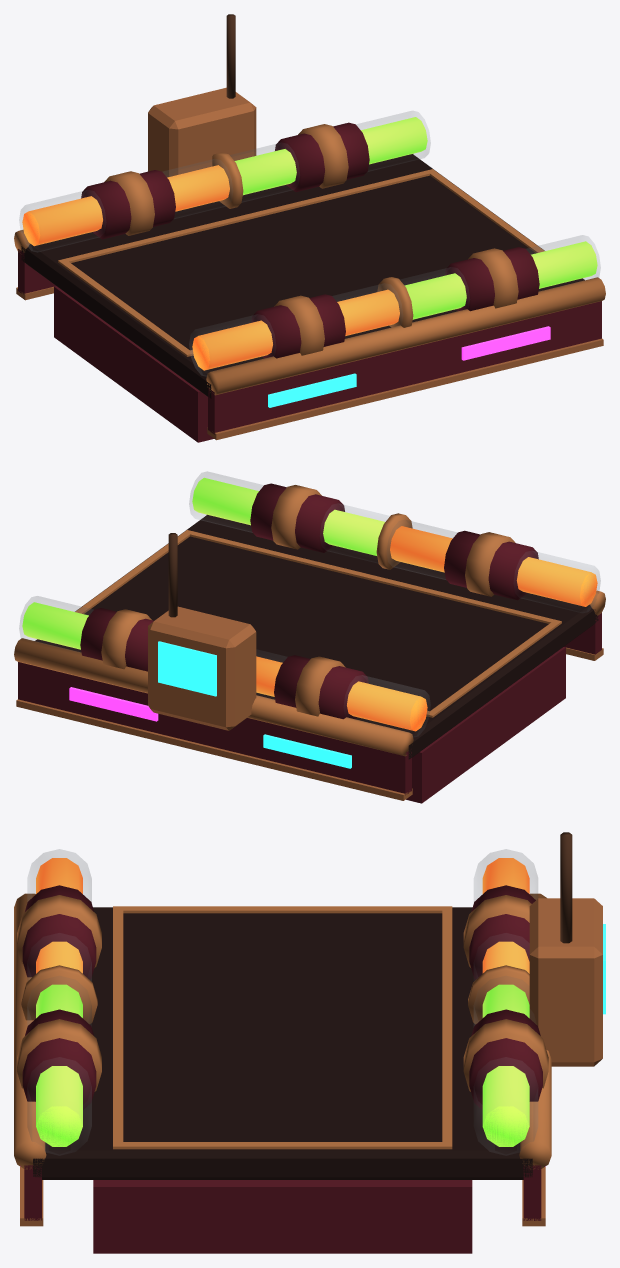
File: Deck_Remote.glb
3 renders of one model, top to bottom at view 1: azimuth 30°, elevation 25°; view 2: azimuth 150°, elevation 25°; view 3: azimuth 270°, elevation 25°, orthographic. The views are drawn at different scales.
Parts seen in each view (by area): view 1: CP_Deck_Remote; view 2: CP_Deck_Remote; view 3: CP_Deck_Remote.
Part boxes in pixels (x1,y1,x2,y2): CP_Deck_Remote: [14, 14, 605, 442]; CP_Deck_Remote: [14, 471, 605, 803]; CP_Deck_Remote: [14, 832, 605, 1253].
Bounding box in the file's own units: 4 × 2.4 × 4.03.
